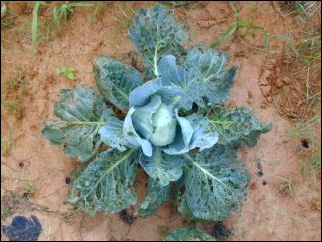cabbage: (129, 95, 178, 147)
